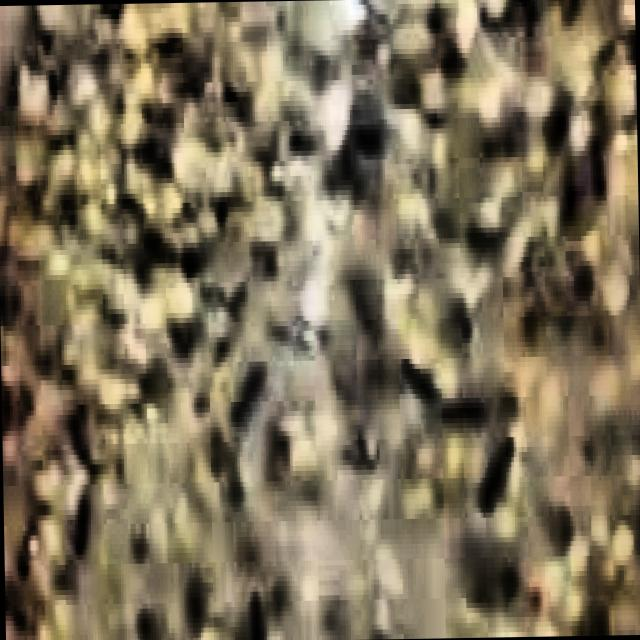Affected: (376, 0, 639, 273), (100, 468, 403, 640)
